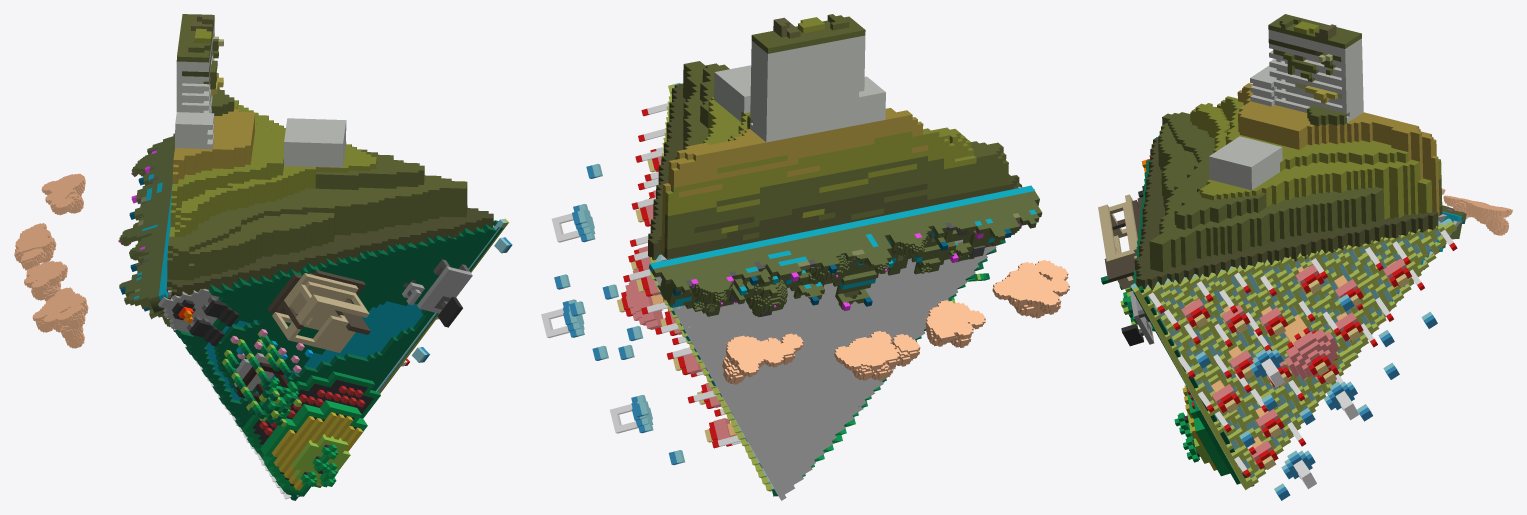
File: tetrahedron1.gltf
The picture shows the model from 3 angles, left to right: view 1: azimuth 30°, elevation 25°; view 2: azimuth 150°, elevation 25°; view 3: azimuth 270°, elevation 25°; orthographic projection. The views are drawn at different scales.
Visible parts, largest first — view 1: Farm(Simone).vox, Mountain(Anjali).vox, dec_future.vox, City(Kaylee).vox.003; view 2: Mountain(Anjali).vox, dec_future.vox, water.vox, City(Kaylee).vox.003, Farm(Simone).vox; view 3: Mountain(Anjali).vox, City(Kaylee).vox.003, Farm(Simone).vox, dec_future.vox.
Boxes of the visible parts, left/top/right/bottom form: Farm(Simone).vox: left=158, top=220, right=503, bottom=500; Mountain(Anjali).vox: left=166, top=14, right=493, bottom=299; dec_future.vox: left=14, top=133, right=174, bottom=348; City(Kaylee).vox.003: left=296, top=218, right=512, bottom=496; Mountain(Anjali).vox: left=648, top=14, right=1021, bottom=260; dec_future.vox: left=649, top=185, right=1069, bottom=468; water.vox: left=655, top=238, right=1005, bottom=500; City(Kaylee).vox.003: left=541, top=83, right=773, bottom=491; Farm(Simone).vox: left=671, top=91, right=1034, bottom=496; Mountain(Anjali).vox: left=1134, top=14, right=1442, bottom=290; City(Kaylee).vox.003: left=1130, top=218, right=1457, bottom=500; Farm(Simone).vox: left=1098, top=155, right=1254, bottom=486; dec_future.vox: left=1156, top=137, right=1512, bottom=352.
Size of the model in its own units: 9.73 by 9.62 by 8.22.
Materials: 6 (5 with a texture image).
